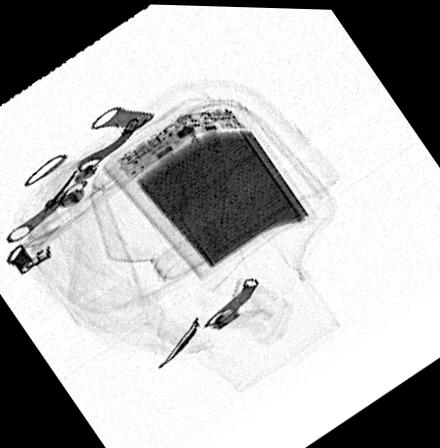Powerbank: (102, 101, 315, 277)
